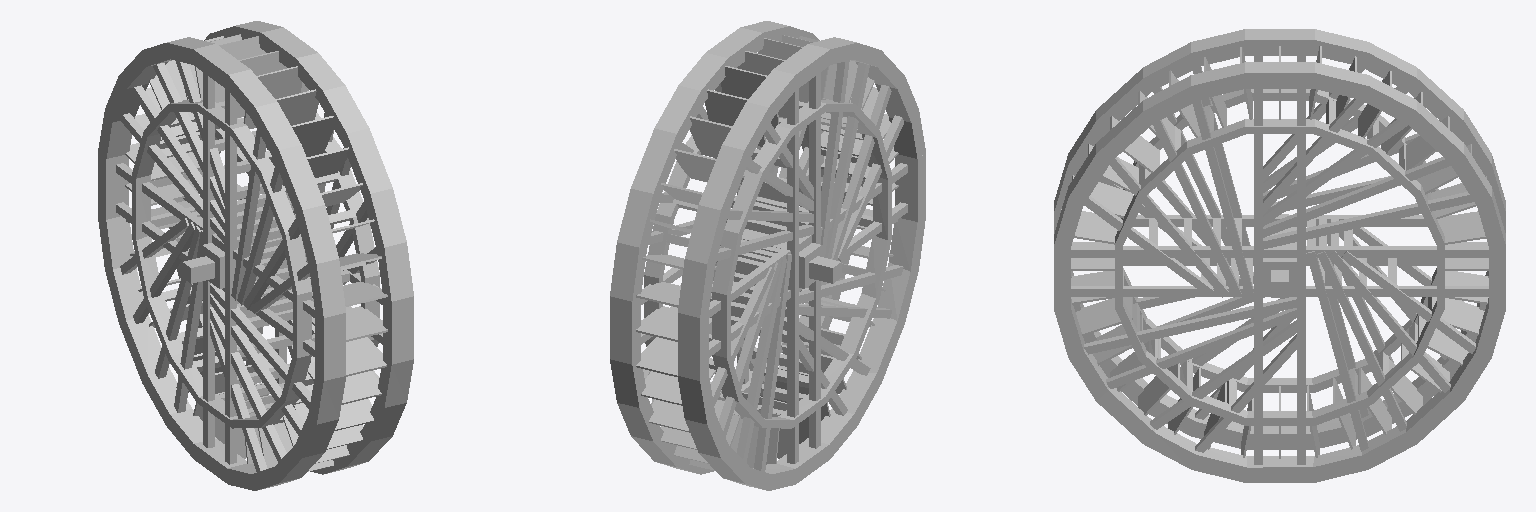
File: noria.obj
3 renders of one model, left to right at view 1: azimuth 30°, elevation 25°; view 2: azimuth 150°, elevation 25°; view 3: azimuth 270°, elevation 25°, orthographic.
Parts seen in each view (by area): view 1: B_ExCircle_Cube.010, F_ExCircle_Cube.058, B_InCircle_Cube.011, B_PoutreVL_Cube.006, B_PoutreVR_Cube.007, F_InCircle_Cube.084, B_PoutreHT_Cube.003, B_DPoutreL1_Cube.025, B_DPoutreL10_Cube.124, B_DPoutreL9_Cube.135, B_DPoutreL14_Cube.128, B_DPoutreL15_Cube.129 (+27 smaller); view 2: B_ExCircle_Cube.010, F_ExCircle_Cube.058, B_InCircle_Cube.011, B_PoutreVR_Cube.007, B_PoutreVL_Cube.006, F_InCircle_Cube.084, B_DPoutreL5_Cube.131, B_DPoutreL2_Cube.024, B_DPoutreL1_Cube.025, B_DPoutreL6_Cube.132, B_DPoutreL3_Cube.023, B_PoutreHT_Cube.003 (+27 smaller); view 3: F_ExCircle_Cube.058, B_ExCircle_Cube.010, F_InCircle_Cube.084, B_InCircle_Cube.011, F_PoutreHT_Cube.004, F_PoutreVL_Cube.009, F_PoutreVR_Cube.008, F_PoutreHD_Cube.005, F_DPoutreL13_Cube.080, F_DPoutreL9_Cube.076, F_DPoutreL14_Cube.081, F_DPoutreL10_Cube.077 (+28 smaller).
Part boxes in pixels (bbox=[...]): B_ExCircle_Cube.010: bbox=[98, 37, 345, 490]; F_ExCircle_Cube.058: bbox=[169, 21, 413, 474]; B_InCircle_Cube.011: bbox=[132, 100, 311, 428]; B_PoutreVL_Cube.006: bbox=[225, 89, 236, 464]; B_PoutreVR_Cube.007: bbox=[203, 73, 214, 447]; F_InCircle_Cube.084: bbox=[200, 113, 379, 389]; B_PoutreHT_Cube.003: bbox=[116, 163, 314, 317]; B_DPoutreL1_Cube.025: bbox=[231, 130, 265, 300]; B_DPoutreL10_Cube.124: bbox=[132, 85, 224, 231]; B_DPoutreL9_Cube.135: bbox=[120, 113, 224, 243]; B_DPoutreL14_Cube.128: bbox=[210, 294, 303, 435]; B_DPoutreL15_Cube.129: bbox=[210, 307, 286, 462]; B_ExCircle_Cube.010: bbox=[678, 37, 925, 490]; F_ExCircle_Cube.058: bbox=[610, 21, 853, 474]; B_InCircle_Cube.011: bbox=[712, 100, 891, 428]; B_PoutreVR_Cube.007: bbox=[787, 89, 798, 463]; B_PoutreVL_Cube.006: bbox=[809, 73, 820, 448]; F_InCircle_Cube.084: bbox=[644, 125, 823, 392]; B_DPoutreL5_Cube.131: bbox=[754, 254, 791, 471]; B_DPoutreL2_Cube.024: bbox=[825, 62, 869, 258]; B_DPoutreL1_Cube.025: bbox=[821, 60, 849, 257]; B_DPoutreL6_Cube.132: bbox=[737, 259, 786, 462]; B_DPoutreL3_Cube.023: bbox=[831, 85, 891, 260]; B_PoutreHT_Cube.003: bbox=[709, 163, 907, 317]; F_ExCircle_Cube.058: bbox=[1054, 62, 1505, 482]; B_ExCircle_Cube.010: bbox=[1054, 29, 1505, 449]; F_InCircle_Cube.084: bbox=[1115, 119, 1444, 425]; B_InCircle_Cube.011: bbox=[1123, 89, 1438, 392]; F_PoutreHT_Cube.004: bbox=[1071, 246, 1488, 257]; F_PoutreVL_Cube.009: bbox=[1254, 89, 1262, 464]; F_PoutreVR_Cube.008: bbox=[1297, 89, 1305, 464]; F_PoutreHD_Cube.005: bbox=[1071, 286, 1488, 296]; F_DPoutreL13_Cube.080: bbox=[1084, 297, 1296, 354]; F_DPoutreL9_Cube.076: bbox=[1263, 192, 1473, 249]; F_DPoutreL14_Cube.081: bbox=[1106, 308, 1296, 388]; F_DPoutreL10_Cube.077: bbox=[1263, 157, 1450, 237].
Bounding box in the file's own units: 4.6 × 13 × 13.